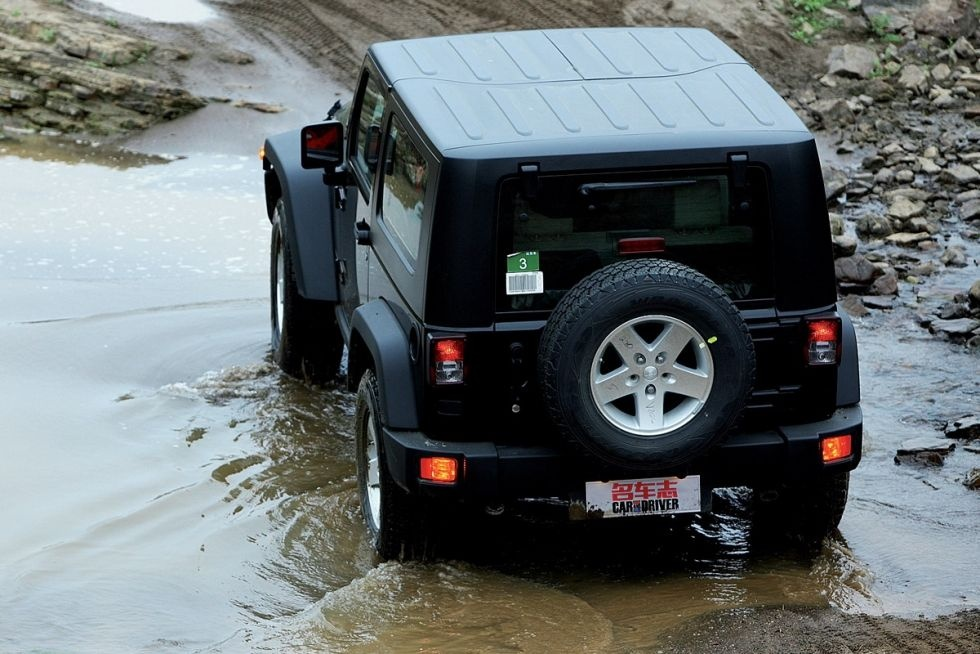jeep: (268, 11, 877, 563)
